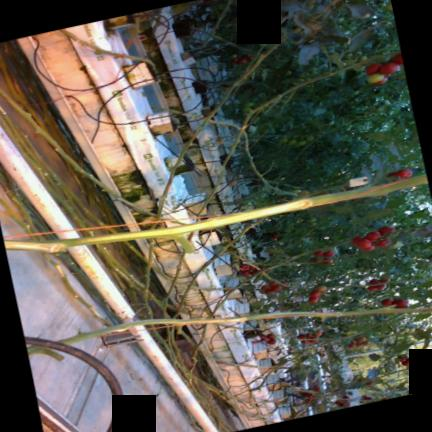MainStem: (4, 175, 427, 252), (149, 36, 285, 228), (195, 65, 351, 217), (0, 90, 155, 218), (57, 308, 432, 345), (208, 240, 350, 318), (198, 347, 276, 368)
tomato: (378, 62, 399, 75), (354, 238, 372, 249), (365, 63, 380, 75), (393, 169, 412, 178), (366, 73, 383, 83), (364, 231, 381, 241), (378, 226, 395, 235), (392, 299, 408, 308), (372, 77, 387, 86), (376, 238, 391, 247), (391, 54, 403, 64), (416, 355, 427, 365), (351, 236, 363, 245), (381, 298, 393, 306), (362, 244, 375, 251), (236, 20, 247, 28), (269, 285, 281, 292), (354, 337, 367, 343), (309, 290, 320, 297), (323, 250, 334, 257), (374, 284, 385, 290), (369, 279, 380, 285), (420, 361, 431, 367), (339, 173, 350, 179), (385, 2, 393, 10), (406, 357, 414, 365), (296, 140, 306, 146), (241, 107, 251, 113), (238, 25, 248, 31), (399, 328, 409, 334), (316, 286, 326, 292), (266, 339, 276, 345), (268, 281, 278, 287), (240, 264, 250, 270), (322, 259, 333, 264), (298, 190, 309, 195), (309, 297, 318, 303), (266, 333, 275, 339), (313, 257, 322, 263), (242, 270, 251, 276), (286, 140, 296, 145), (314, 251, 324, 256), (348, 342, 355, 349), (358, 55, 366, 61), (244, 102, 253, 107), (367, 286, 376, 291), (280, 137, 287, 143), (238, 59, 246, 64), (387, 172, 395, 177), (379, 279, 389, 283), (306, 333, 314, 338), (250, 270, 258, 275), (292, 189, 301, 193), (306, 136, 313, 141), (231, 58, 238, 63), (316, 330, 321, 337), (297, 334, 304, 339), (261, 285, 268, 290), (248, 266, 255, 271), (333, 178, 341, 182), (408, 328, 414, 333), (327, 180, 333, 185), (301, 340, 308, 344), (309, 218, 316, 222), (354, 51, 361, 55), (309, 340, 318, 343), (247, 57, 252, 62), (231, 54, 237, 58), (400, 358, 406, 362), (310, 222, 316, 226), (242, 54, 249, 57), (237, 54, 242, 58), (347, 53, 352, 57), (266, 291, 270, 294)
